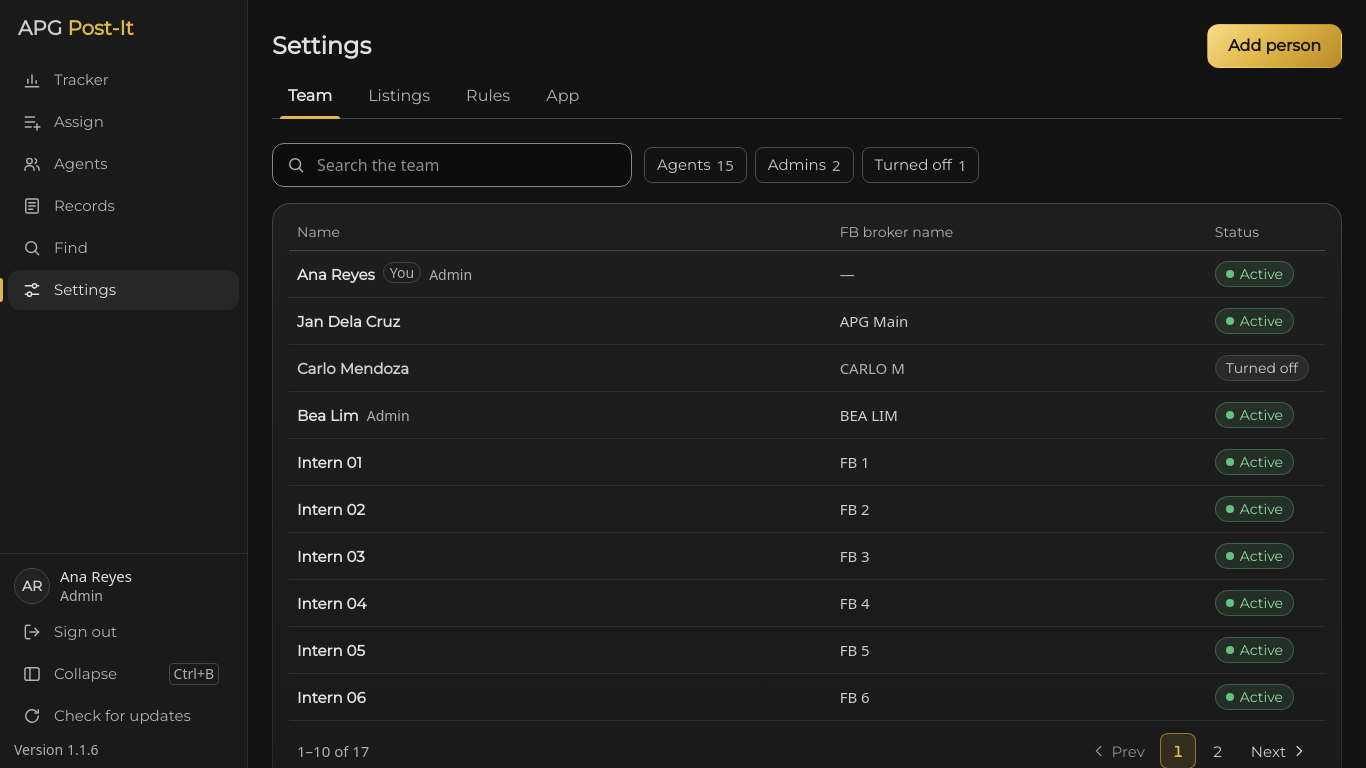
Test: Settings → Team › pages a team of more than ten, and a search starts at its first page
The width and height of the screenshot is (1366, 768).
Check: the button "Jan Dela Cruz" is shown, box [297,310,400,332]
Check: the element named "Pages" shows "1–10 of 17", box [297,741,369,761]
Click the button with aria-label "Next page" at [1278, 751], box [1240,733,1317,767]
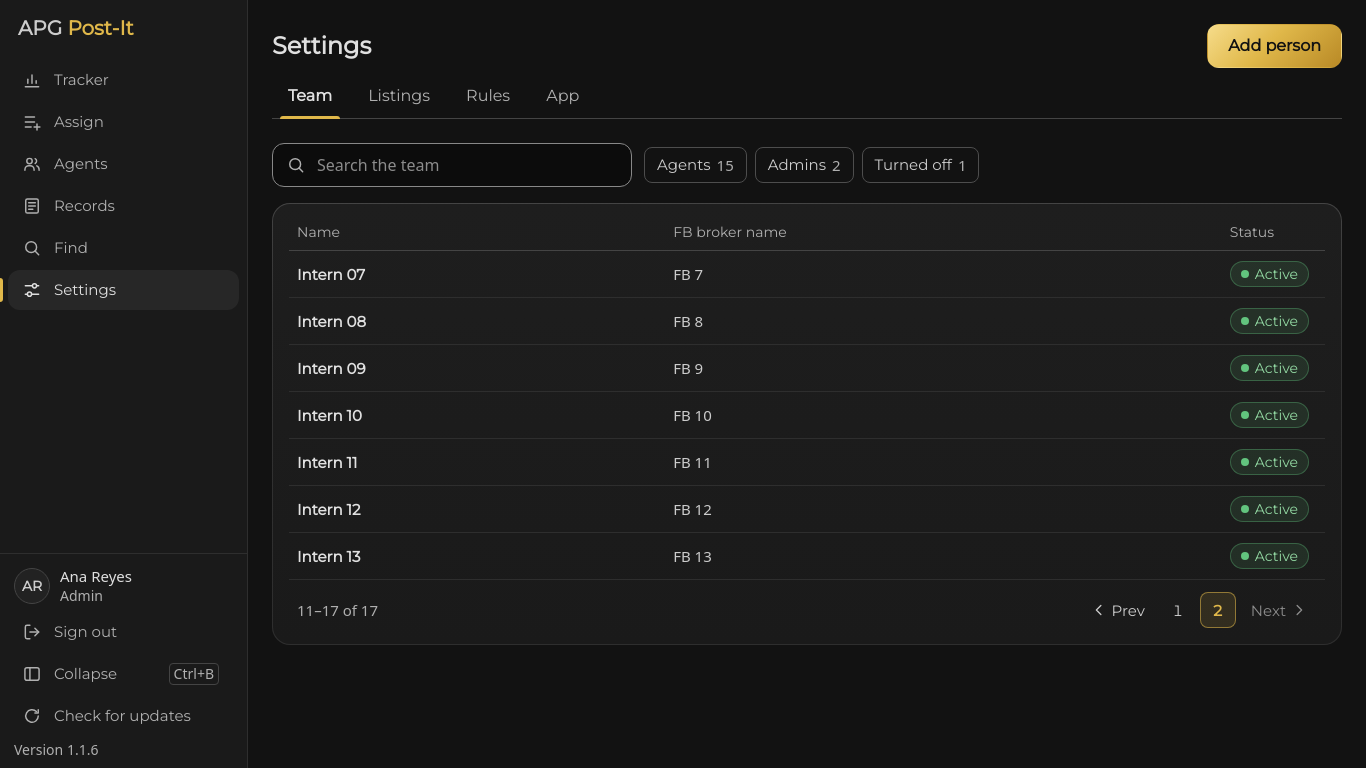
Type "intern" into the search field labelled "Search the team" at [452, 165], box [272,143,632,187]
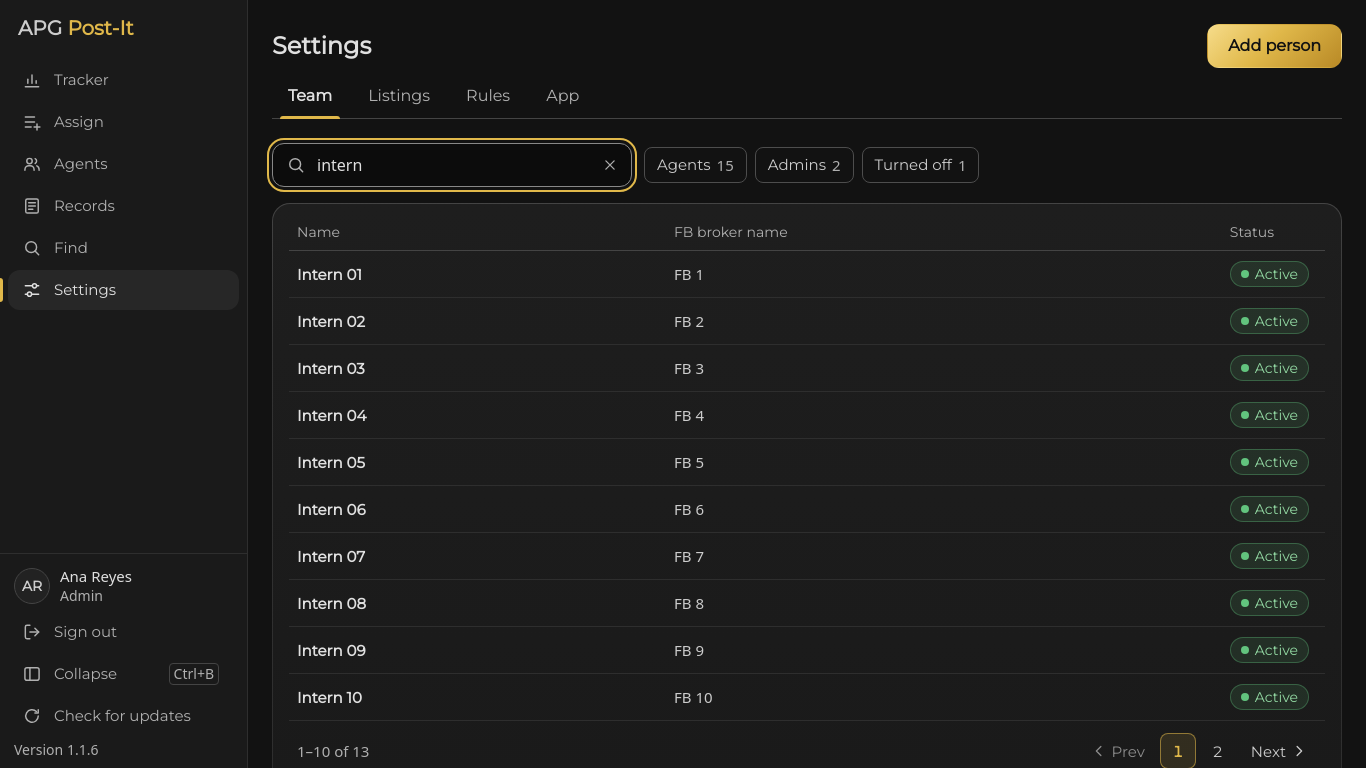
Check: the button "Intern 01" is shown, box [297,264,362,286]
